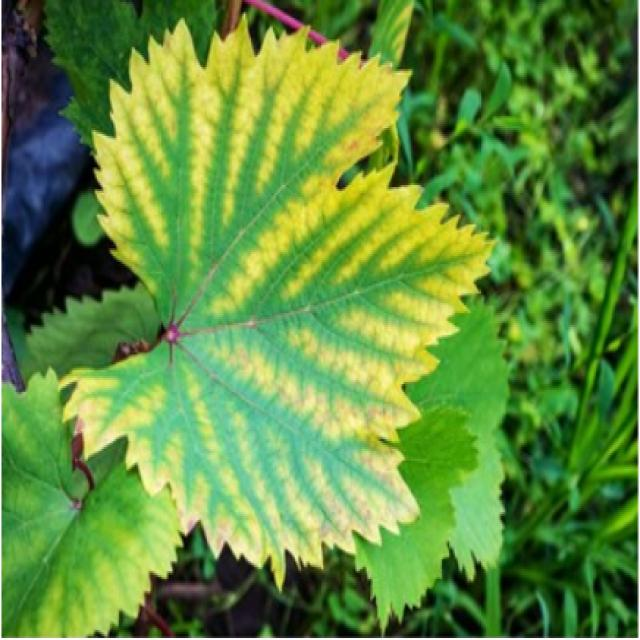Chlorosis: (31, 38, 496, 539)
